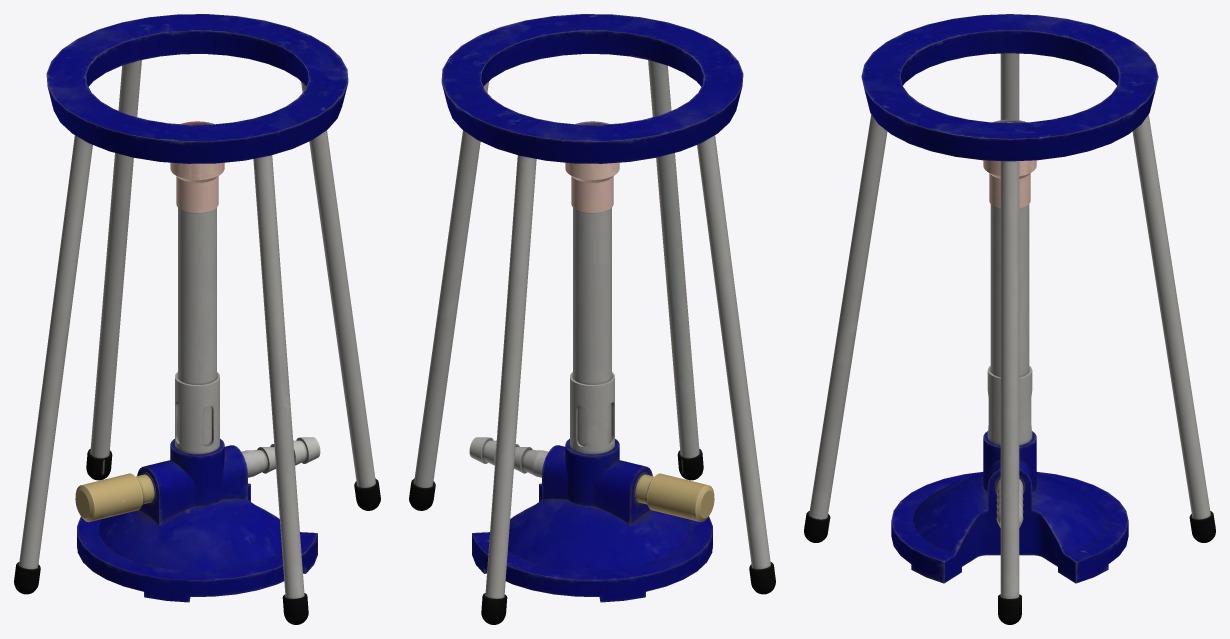
The model's file is bunsen_burner.88c60c36.glb.
The picture shows the model from 3 angles, left to right: view 1: azimuth 30°, elevation 25°; view 2: azimuth 150°, elevation 25°; view 3: azimuth 270°, elevation 25°; orthographic projection.
Visible parts, largest first — view 1: burner_stand, bunsen_burner; view 2: burner_stand, bunsen_burner; view 3: burner_stand, bunsen_burner.
Part boxes in pixels (left/top/right/bottom): burner_stand: left=14, top=14, right=380, bottom=624; bunsen_burner: left=75, top=121, right=320, bottom=602; burner_stand: left=409, top=14, right=775, bottom=624; bunsen_burner: left=469, top=121, right=714, bottom=602; burner_stand: left=804, top=14, right=1215, bottom=624; bunsen_burner: left=891, top=119, right=1128, bottom=583.
Size of the model in its own units: 0.72 by 0.8974 by 0.72.
Materials: 1 (1 with a texture image).
